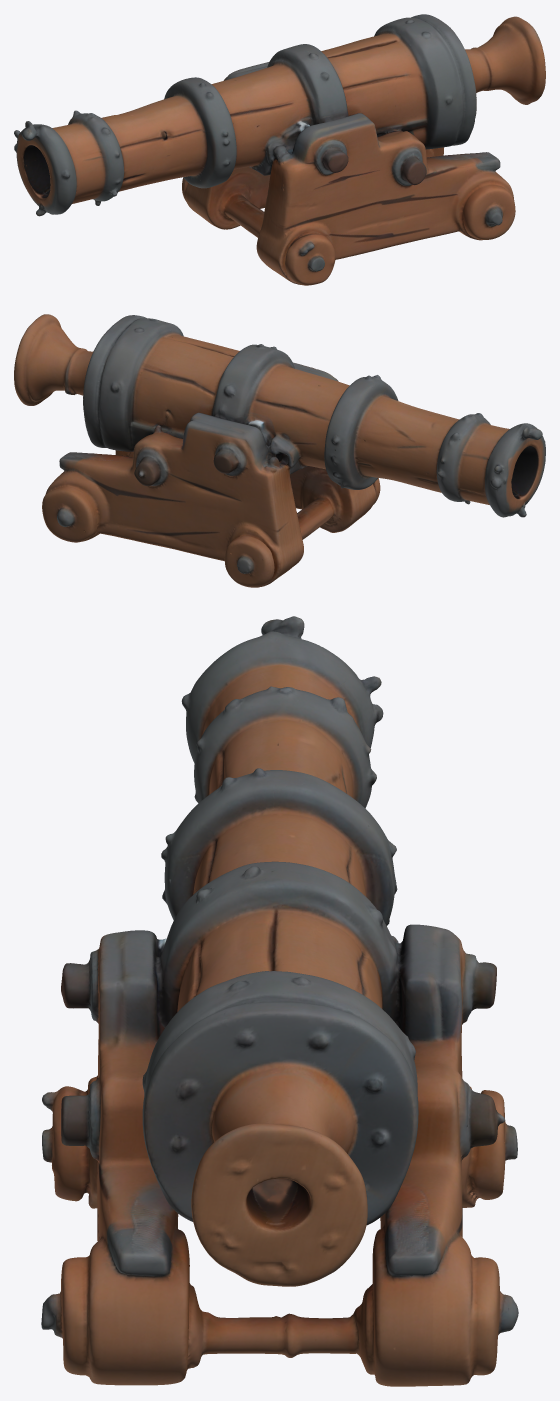
Rendered from cannon-test-1.glb.
The picture shows the model from 3 angles, top to bottom: view 1: azimuth 30°, elevation 25°; view 2: azimuth 150°, elevation 25°; view 3: azimuth 270°, elevation 25°; orthographic projection. The views are drawn at different scales.
Visible parts, largest first — view 1: Mesh_0.001; view 2: Mesh_0.001; view 3: Mesh_0.001.
Boxes of the visible parts, left/top/right/bottom form: Mesh_0.001: left=14, top=14, right=545, bottom=285; Mesh_0.001: left=14, top=314, right=545, bottom=587; Mesh_0.001: left=41, top=616, right=518, bottom=1386.
Size of the model in its own units: 2.37 by 0.8612 by 0.9733.
1 material, 1 textured.
